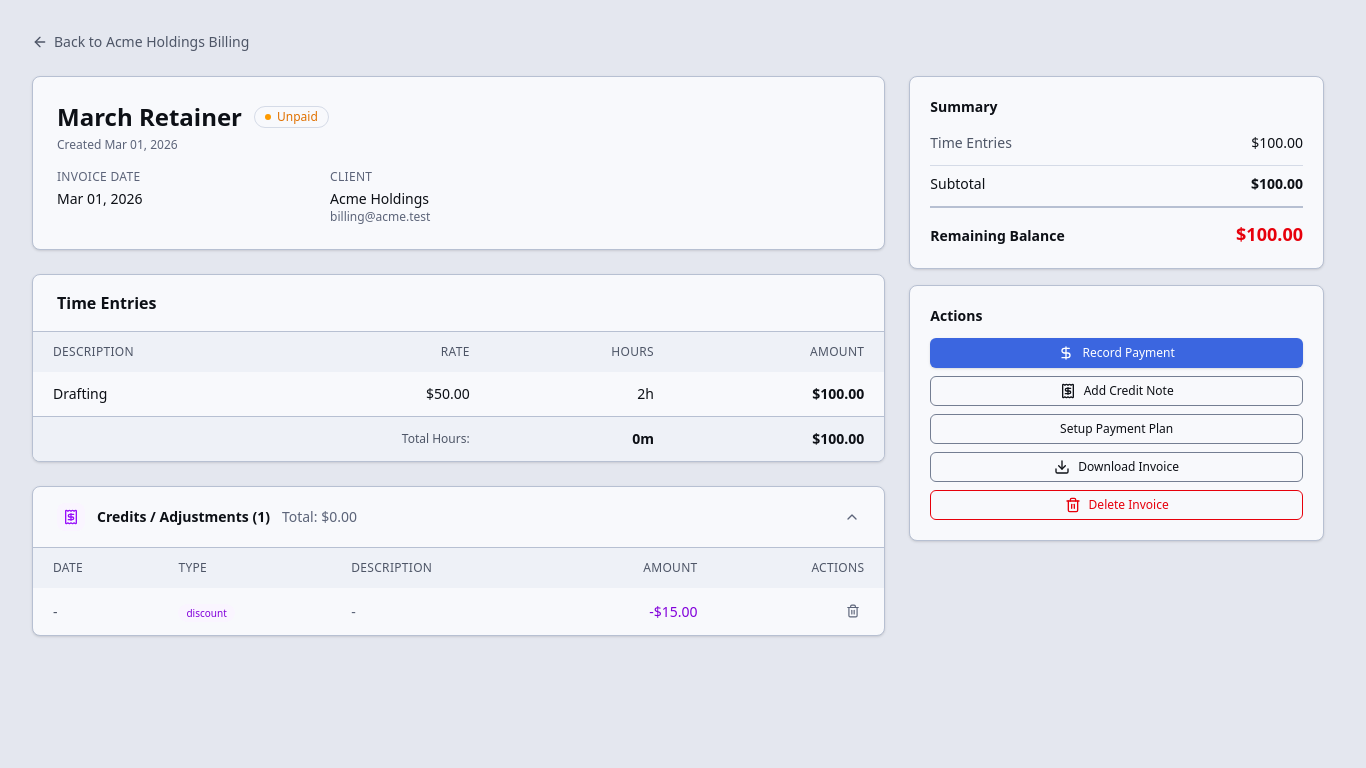
Test case: credit notes › shows a refused credit-note removal as a banner
Expected: the heading "March Retainer" is shown, [57, 101, 242, 133]
Click the button named "Remove credit note" at (853, 611), box [842, 600, 864, 622]
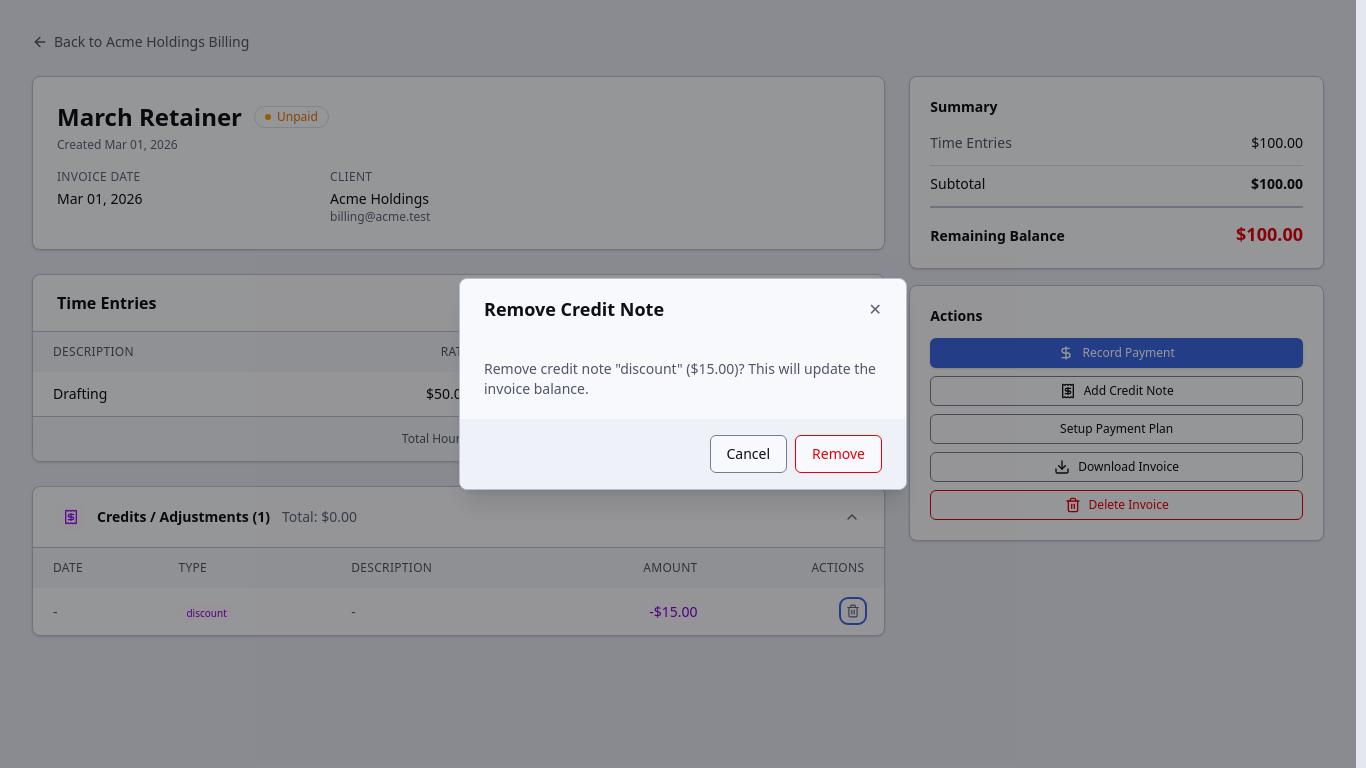
Click the button "Remove" at (839, 454), box [795, 435, 882, 473]
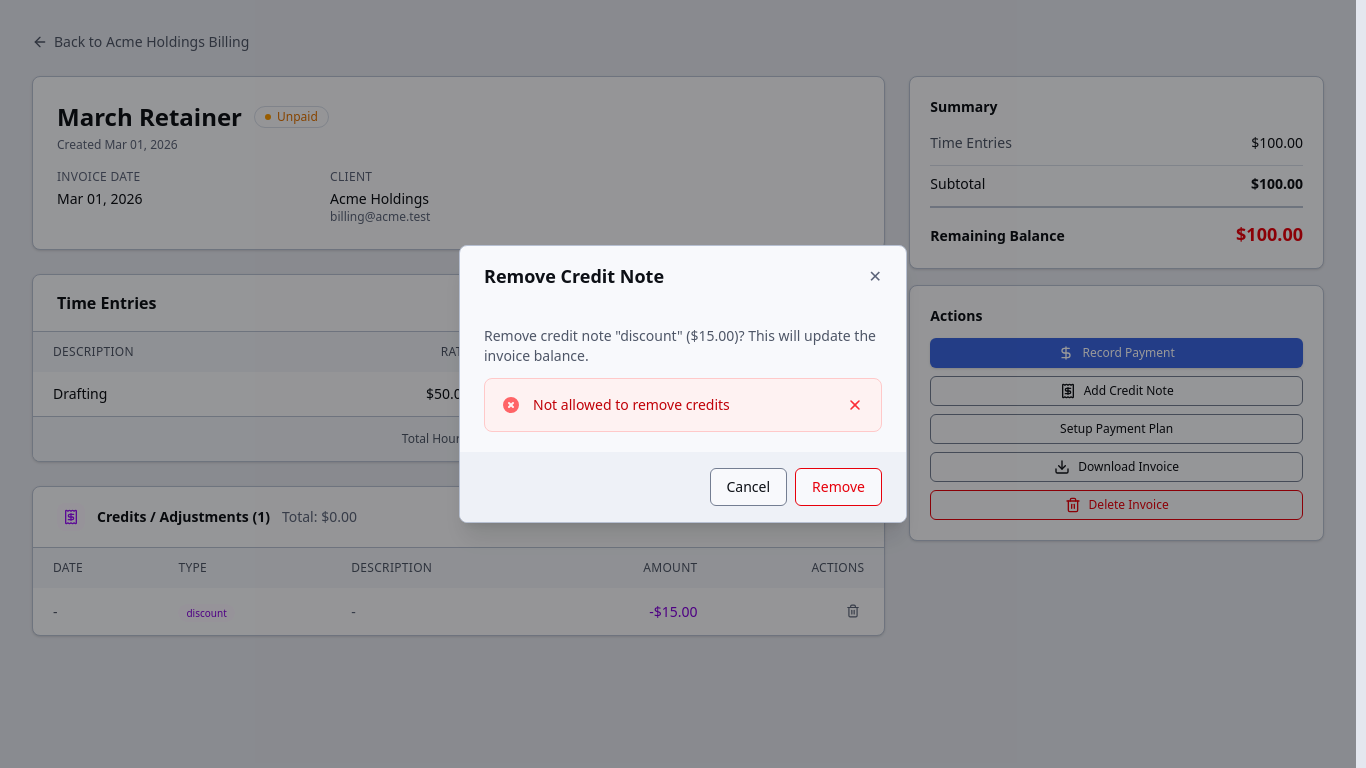
Expected: the heading "March Retainer" is shown, [57, 101, 242, 133]
Expected: the message reads "Not allowed to remove credits", [533, 395, 730, 414]
